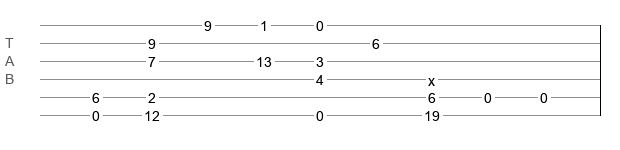0: (92, 108, 100, 118), (316, 18, 324, 28), (316, 108, 324, 118), (484, 90, 492, 100), (540, 90, 548, 100)
1: (260, 18, 268, 28)
12: (144, 108, 160, 118)
13: (256, 54, 272, 64)
19: (424, 108, 440, 118)
2: (148, 90, 156, 100)
3: (316, 54, 324, 64)
4: (316, 72, 324, 82)
6: (92, 90, 100, 100), (372, 36, 380, 46), (428, 90, 436, 100)
7: (148, 54, 156, 64)
9: (148, 36, 156, 46), (204, 18, 212, 28)
x: (428, 73, 435, 81)
